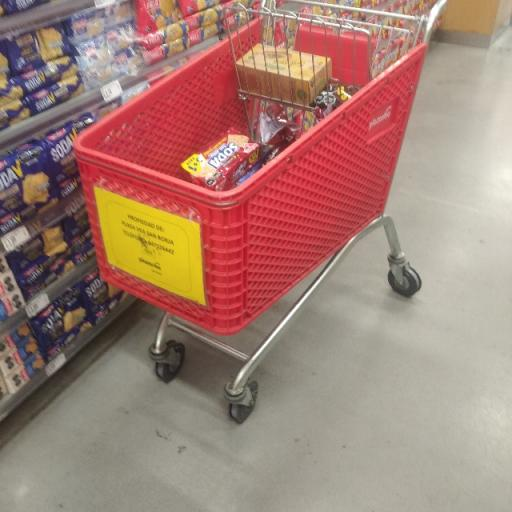shopping_cart: (74, 0, 453, 425)
